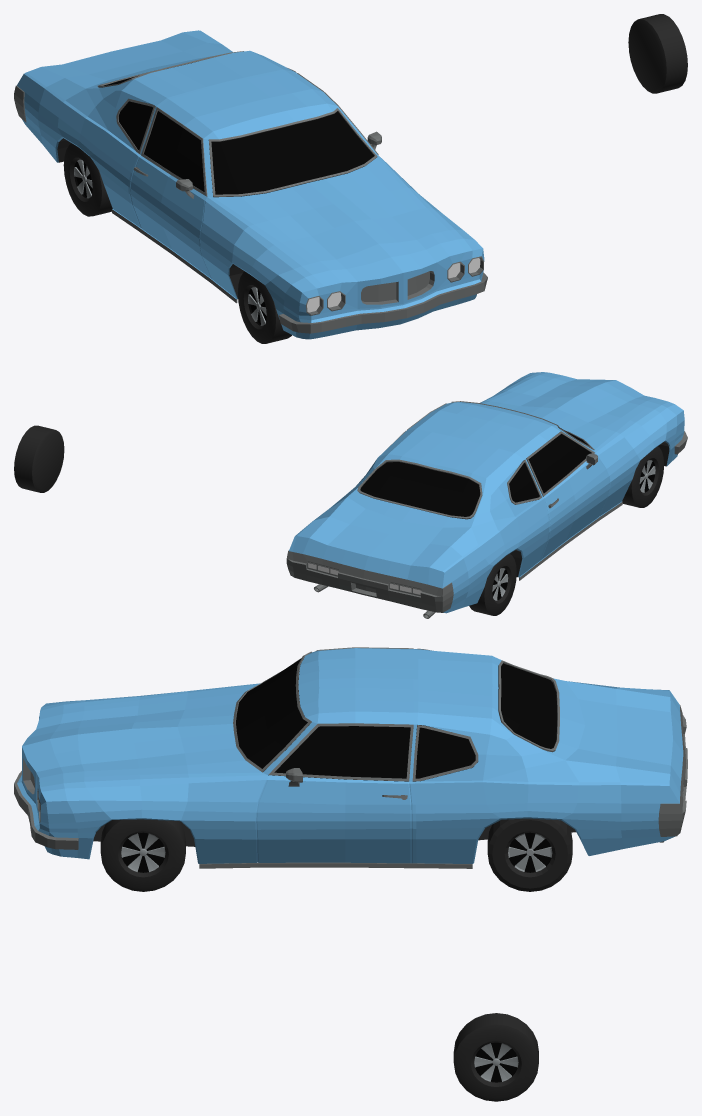
Rendered from Pontiac.fbx.
The picture shows the model from 3 angles, top to bottom: view 1: azimuth 30°, elevation 25°; view 2: azimuth 150°, elevation 25°; view 3: azimuth 270°, elevation 25°; orthographic projection. The views are drawn at different scales.
Visible parts, largest first — view 1: MainCar, Wheels, Wheels.001; view 2: MainCar, Wheels, Wheels.001; view 3: MainCar, Wheels, Wheels.001.
Boxes of the visible parts, x1,y1,x2,y2 form: MainCar: (14, 30, 487, 339); Wheels: (63, 143, 291, 343); Wheels.001: (628, 14, 687, 93); MainCar: (286, 372, 687, 618); Wheels: (469, 446, 664, 615); Wheels.001: (14, 425, 64, 492); MainCar: (14, 647, 687, 868); Wheels: (100, 818, 572, 891); Wheels.001: (453, 1013, 538, 1101).
Size of the model in its own units: 369 by 89.54 by 333.
